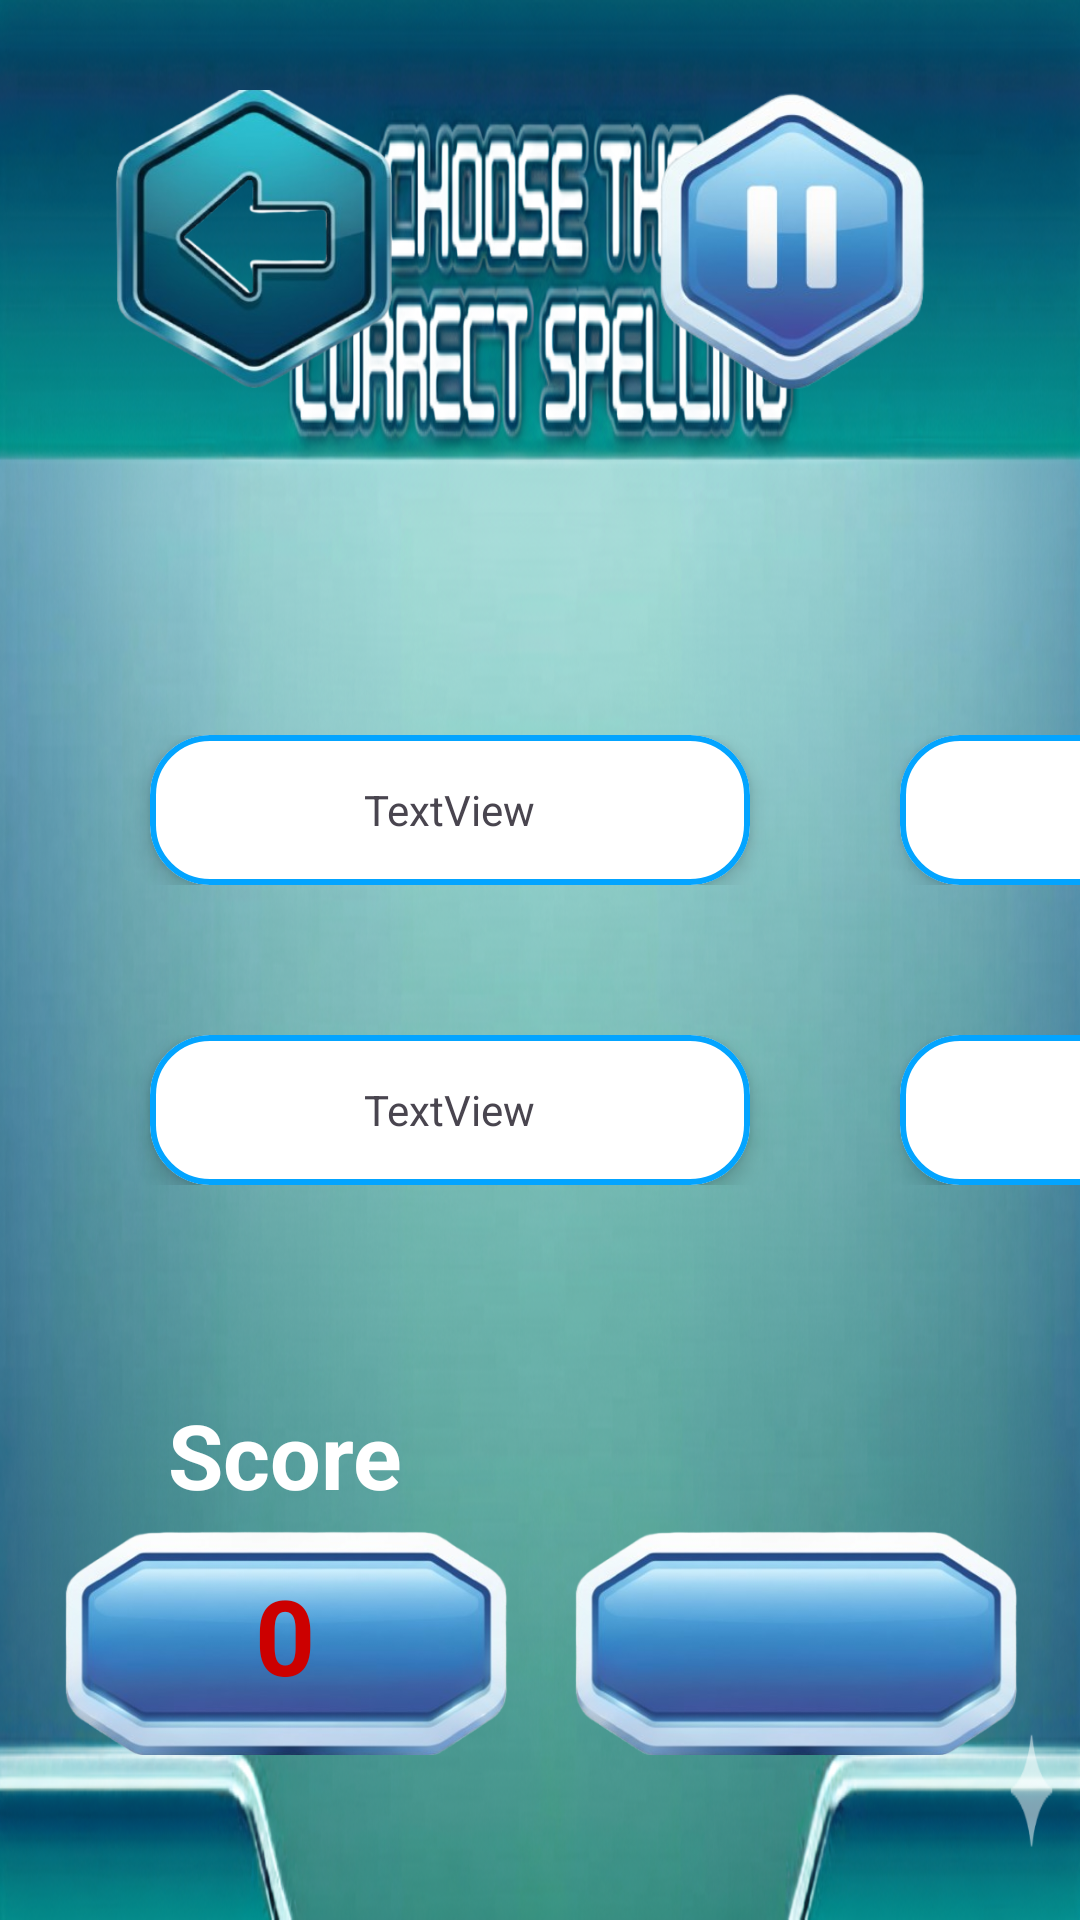

Where to tap for icons on this 1080×1920 app screen, as [x,y]:
back: [255,240]
paush: [795,240]
